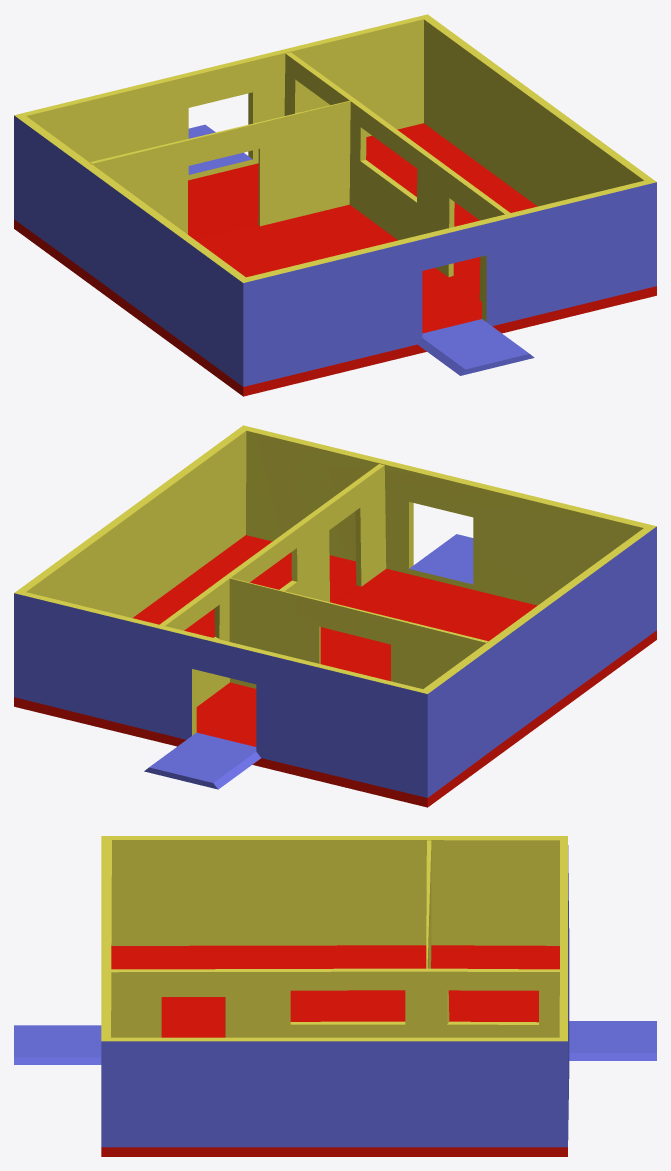
The model's file is level 2 room (4).fbx.
3 views of the same model, one above another, from view 1: azimuth 30°, elevation 25°; view 2: azimuth 150°, elevation 25°; view 3: azimuth 270°, elevation 25° (orthographic).
Parts seen in each view (by area): view 1: Room 2; view 2: Room 2; view 3: Room 2.
Boxes of the visible parts, x1=… form: Room 2: x1=14, y1=14, x2=656, y2=396; Room 2: x1=14, y1=425, x2=656, y2=807; Room 2: x1=14, y1=836, x2=656, y2=1156.
Bounding box in the file's own units: 2083 × 546 × 2756.
